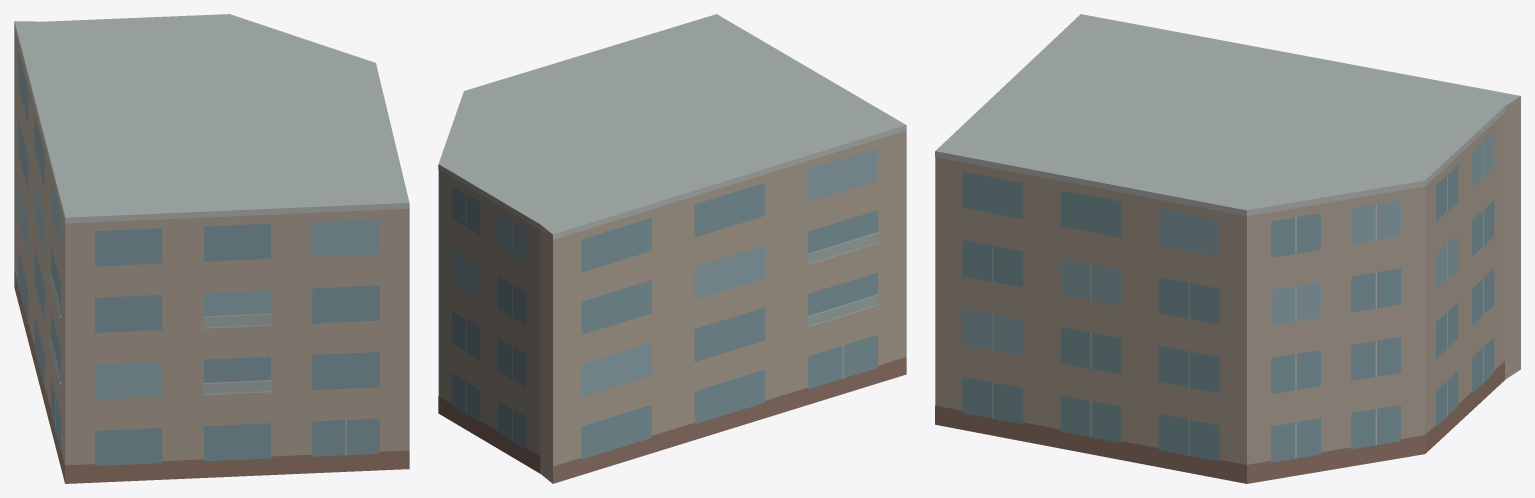
Rendered from survey-upis-32904735.glb.
3 views of the same model, side by side, from view 1: azimuth 30°, elevation 25°; view 2: azimuth 150°, elevation 25°; view 3: azimuth 270°, elevation 25° (orthographic). The views are drawn at different scales.
Parts seen in each view (by area): view 1: survey-upis-32904735.tmp; view 2: survey-upis-32904735.tmp; view 3: survey-upis-32904735.tmp.
Part boxes in pixels (x1,y1,x2,y2): survey-upis-32904735.tmp: [14, 14, 409, 483]; survey-upis-32904735.tmp: [438, 14, 906, 483]; survey-upis-32904735.tmp: [935, 14, 1520, 483].
Bounding box in the file's own units: 17.1 × 11.1 × 21.55.
